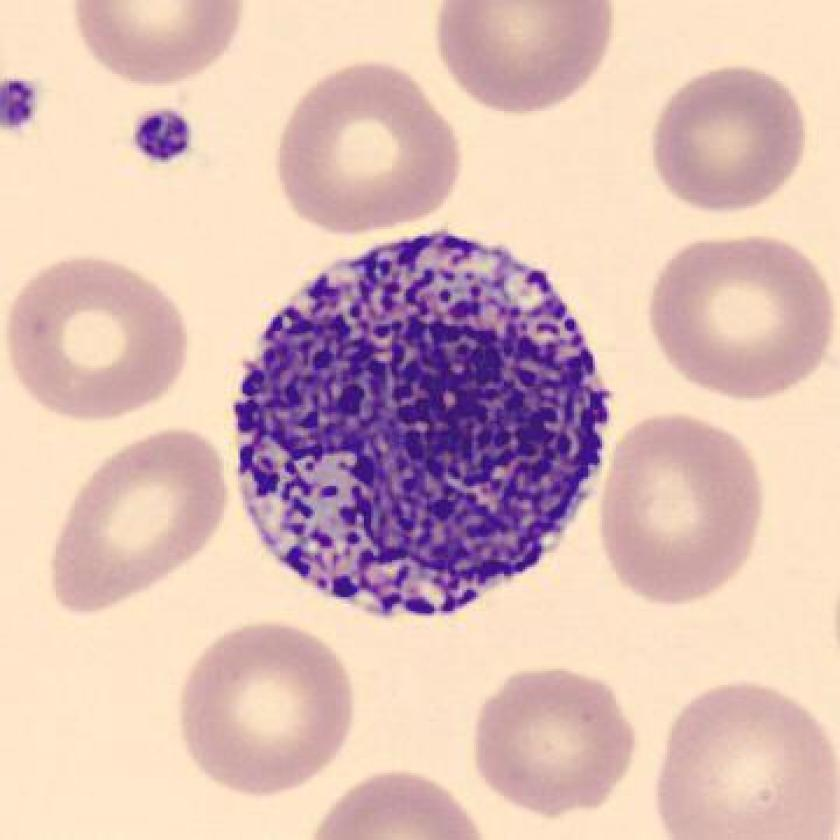basophil: (225, 223, 612, 624)
